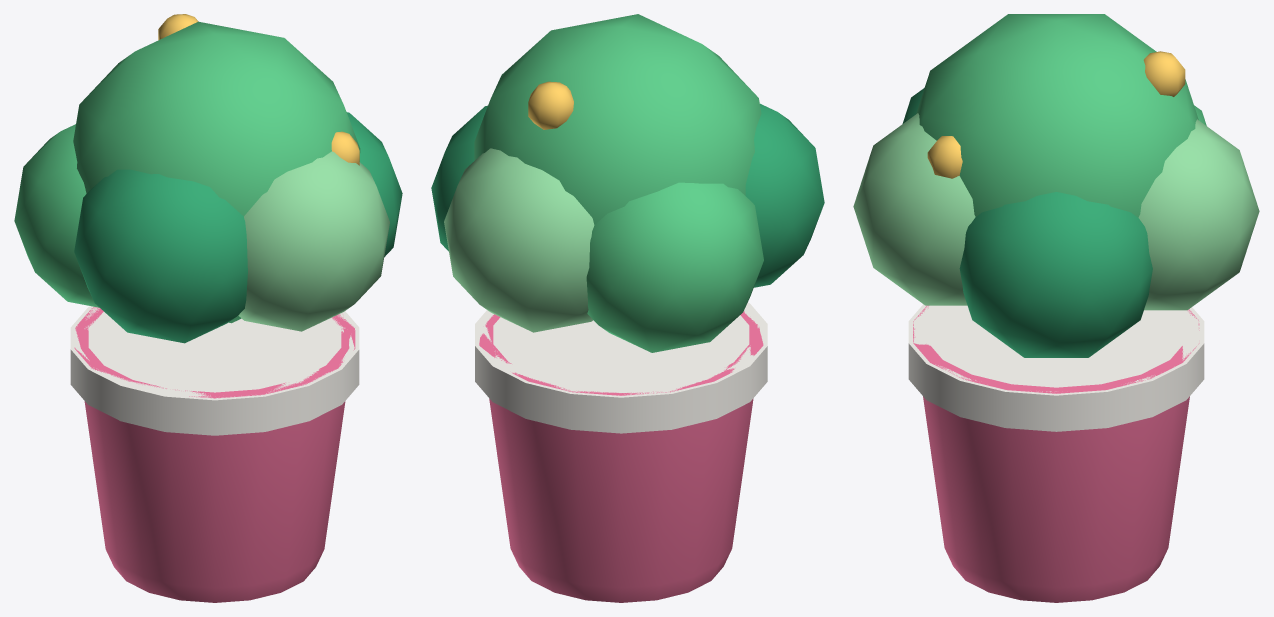
The model's file is plant_small.glb.
3 renders of one model, left to right at view 1: azimuth 30°, elevation 25°; view 2: azimuth 150°, elevation 25°; view 3: azimuth 270°, elevation 25°, orthographic. The views are drawn at different scales.
Parts seen in each view (by area): view 1: PlantSmall; view 2: PlantSmall; view 3: PlantSmall.
Part boxes in pixels (box(x1,y1,x2,y2)): PlantSmall: box(14, 14, 402, 602); PlantSmall: box(431, 14, 824, 602); PlantSmall: box(853, 14, 1259, 602).
Size of the model in its own units: 0.3711 by 0.57 by 0.3902.
